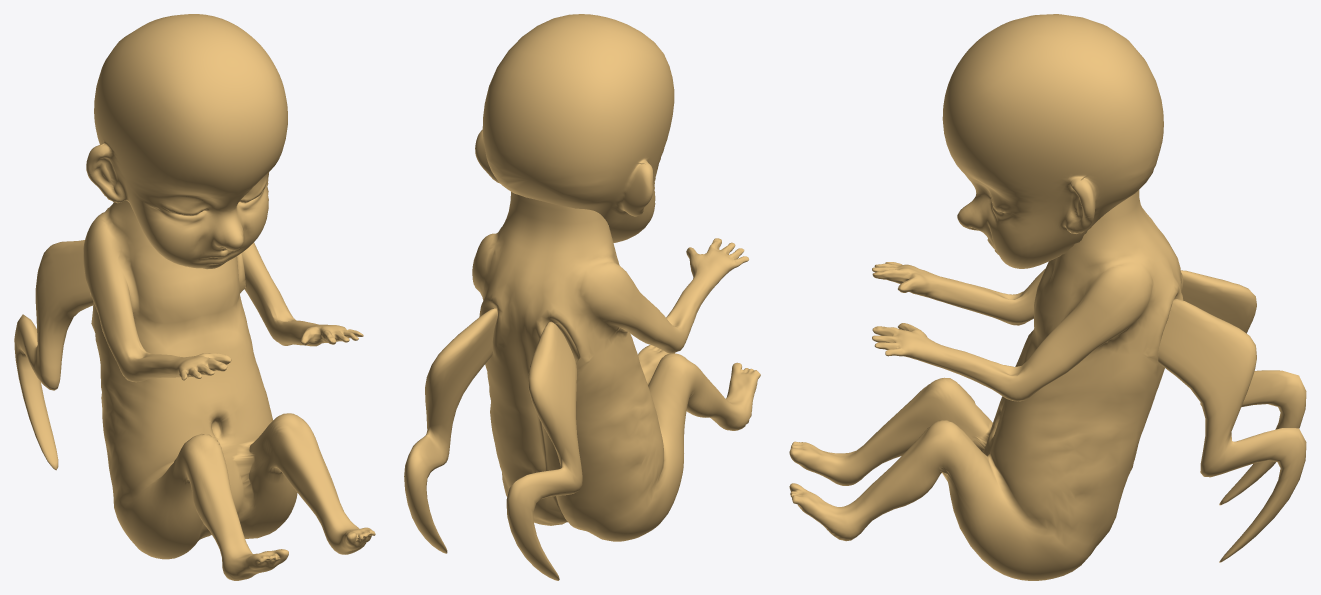
Rendered from embrio 2.fbx.
3 renders of one model, left to right at view 1: azimuth 30°, elevation 25°; view 2: azimuth 150°, elevation 25°; view 3: azimuth 270°, elevation 25°, orthographic. The views are drawn at different scales.
Visible parts, largest first — view 1: RetopoFlow.002; view 2: RetopoFlow.002; view 3: RetopoFlow.002.
Part boxes in pixels (x1,y1,x2,y2): RetopoFlow.002: (14,14,375,580); RetopoFlow.002: (404,14,760,580); RetopoFlow.002: (789,14,1306,580).
Size of the model in its own units: 177 by 480 by 421.
